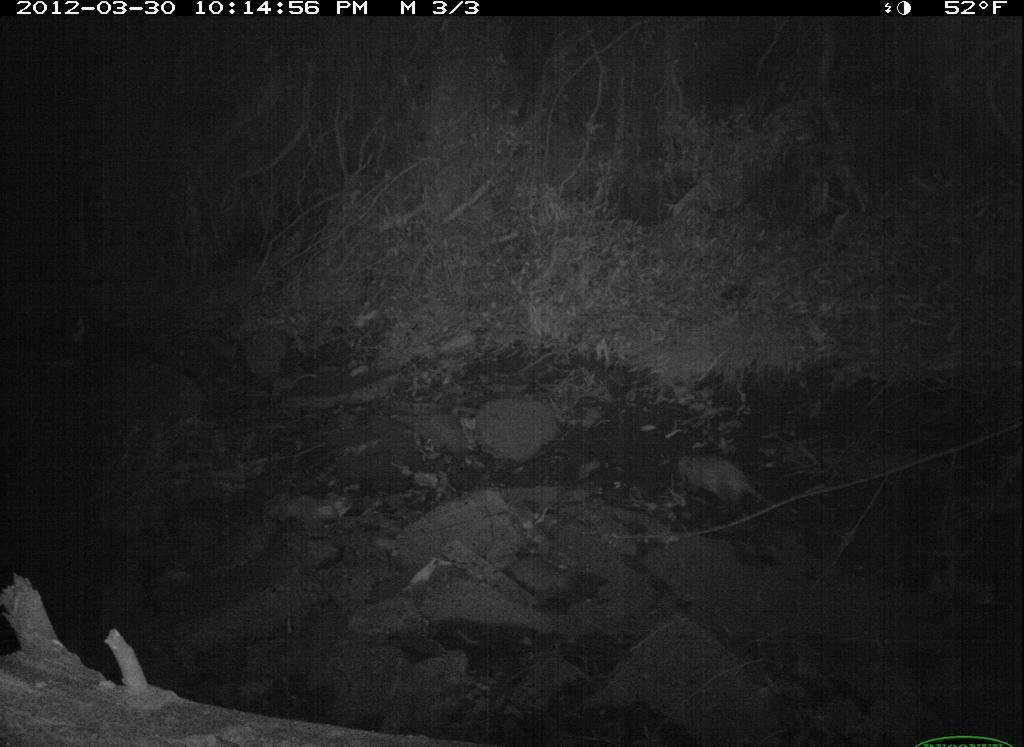opossum: (664, 438, 822, 542)
